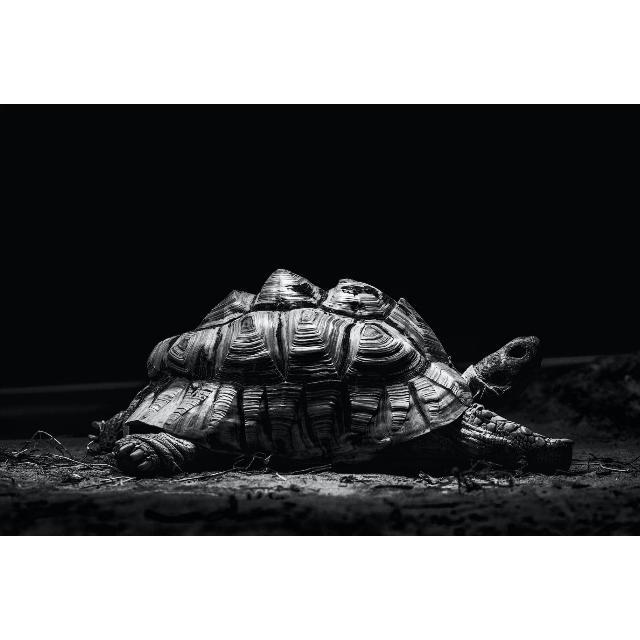turtle: (87, 267, 574, 481)
